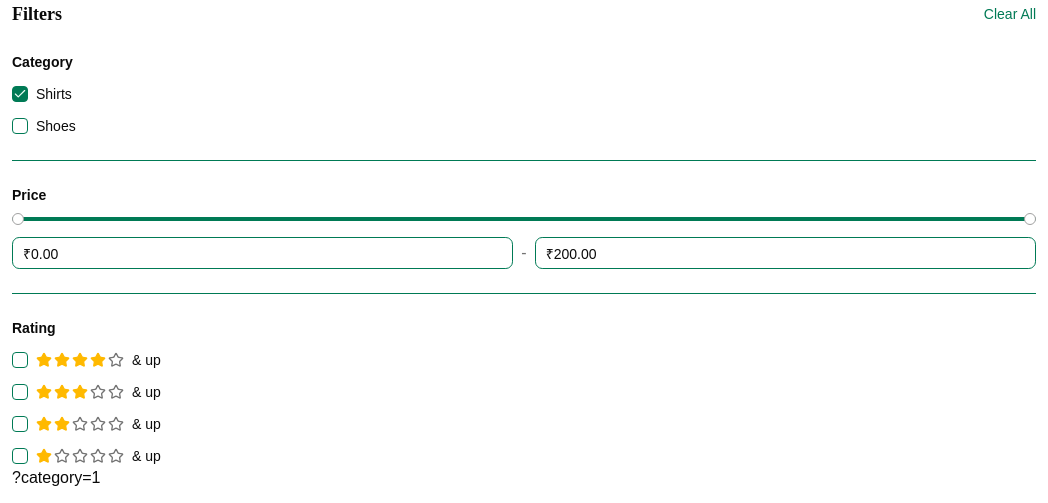
ProductFilters › selects a category exclusively, unchecking the previously selected one
This screenshot has width=1048, height=503.
Expected: the checkbox named "Shirts" next to "Shirts" is checked, 12,86 -> 28,102
What coordinates should you click on to do the following:
click the checkbox named "Shoes" next to "Shoes"
I would click on:
 (20, 126)
Its box is 12,118 -> 28,134.
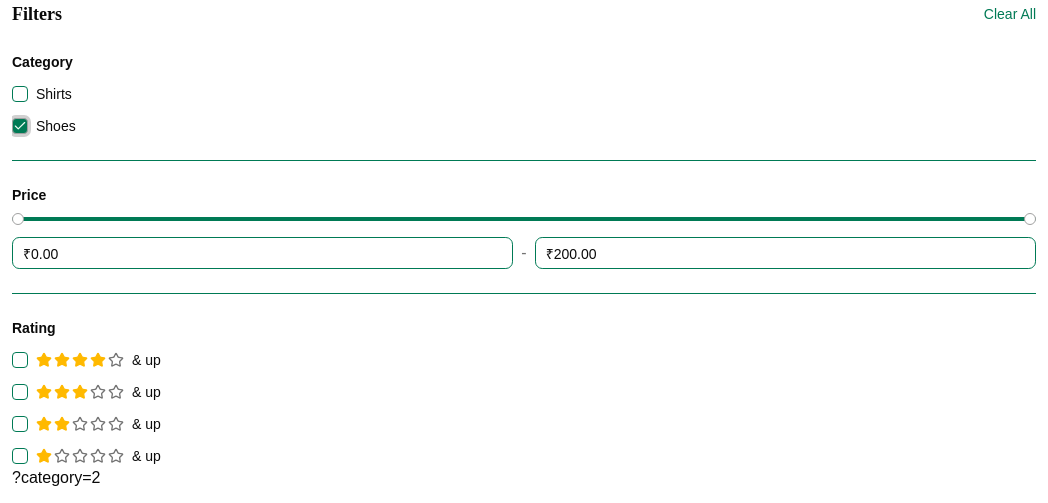
Expected: the checkbox named "Shoes" next to "Shoes" is checked, 12,118 -> 28,134
Expected: the checkbox named "Shirts" next to "Shirts" is not checked, 12,86 -> 28,102
Expected: the text with test id "search-params-probe" shows "category=2", 12,469 -> 100,486
